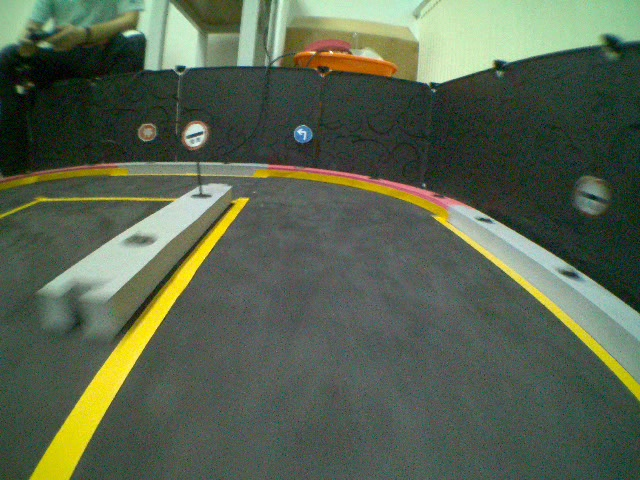Check: (570, 173, 614, 217), (181, 120, 209, 151)
Stop: (135, 123, 158, 143)
turn: (291, 124, 315, 148)
